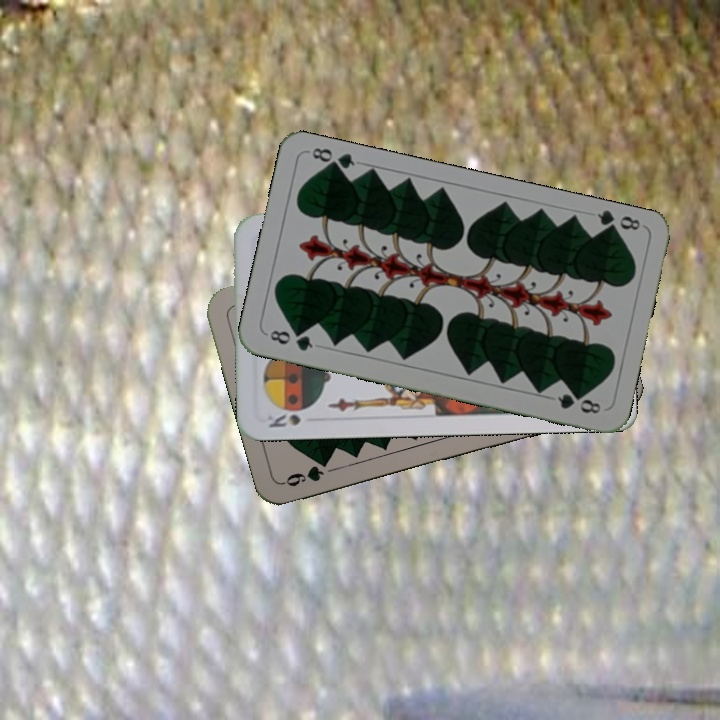G8: (593, 207, 643, 238), (263, 326, 316, 354)
G9: (280, 461, 326, 489)
SK: (265, 404, 313, 430)
